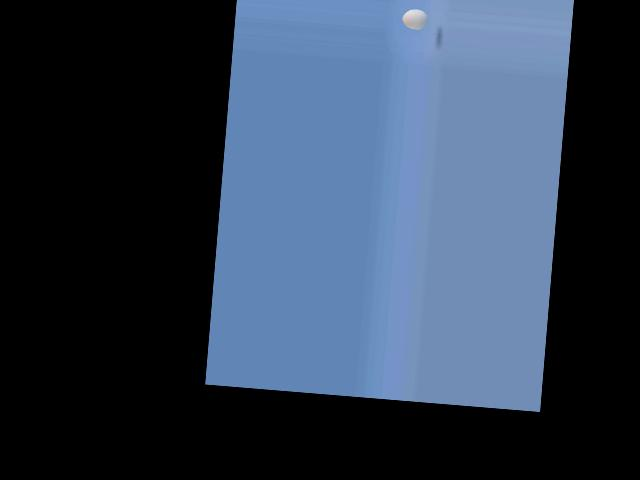egg: (401, 7, 429, 30)
